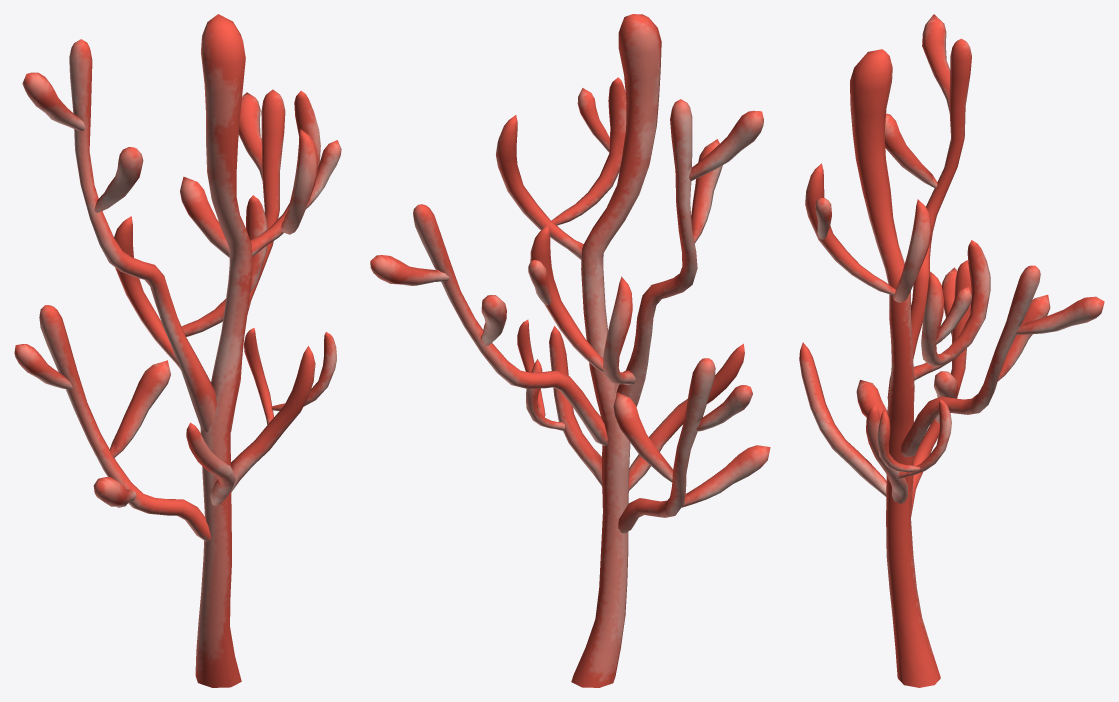
Rendered from Cartoon Seaweed_13-1-27.fbx.
The picture shows the model from 3 angles, left to right: view 1: azimuth 30°, elevation 25°; view 2: azimuth 150°, elevation 25°; view 3: azimuth 270°, elevation 25°; orthographic projection. The views are drawn at different scales.
Visible parts, largest first — view 1: Cartoon Seaweed_13.1.27; view 2: Cartoon Seaweed_13.1.27; view 3: Cartoon Seaweed_13.1.27.
Part boxes in pixels (x1,y1,x2,y2): Cartoon Seaweed_13.1.27: [14, 14, 341, 687]; Cartoon Seaweed_13.1.27: [370, 14, 770, 687]; Cartoon Seaweed_13.1.27: [799, 14, 1104, 687].
Size of the model in its own units: 12.29 by 25.07 by 11.18.
Materials: 1 (1 with a texture image).
